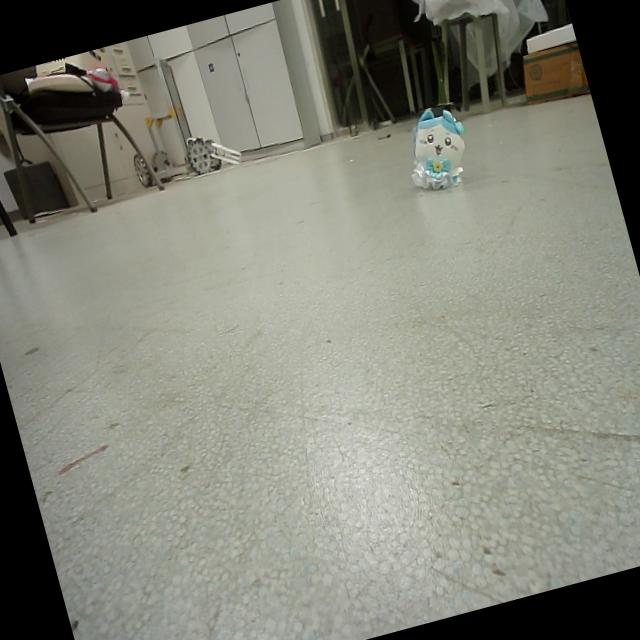xiaoba: (398, 98, 480, 197)
